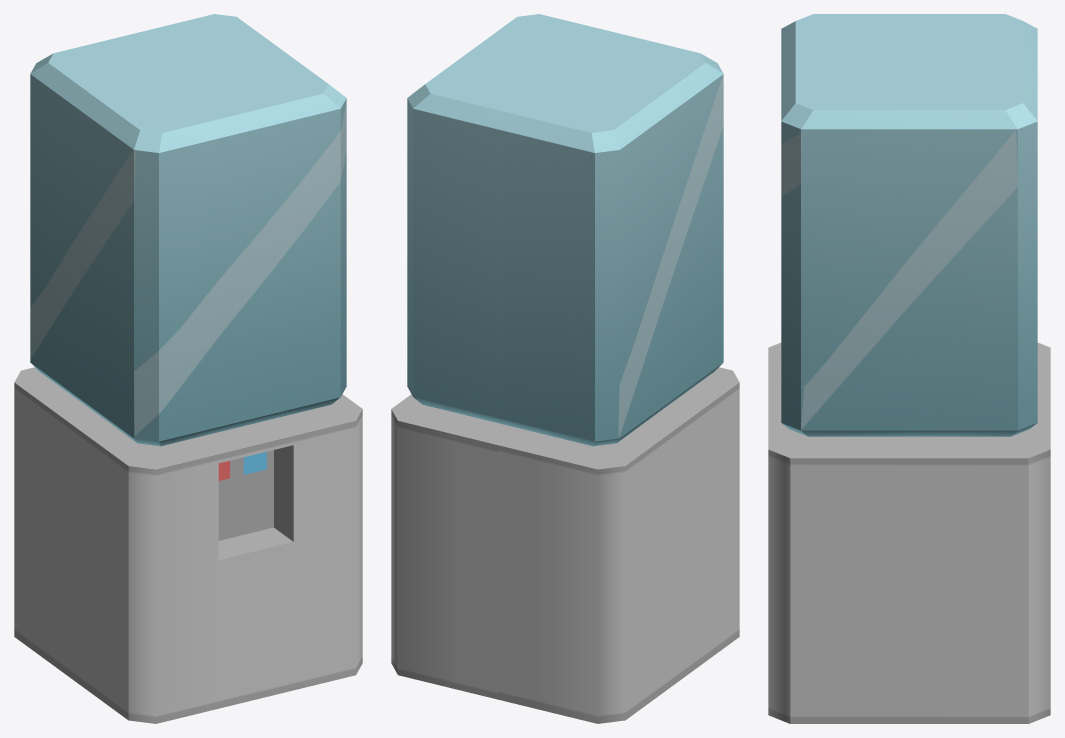
File: WaterCooler.fbx
3 views of the same model, side by side, from view 1: azimuth 30°, elevation 25°; view 2: azimuth 150°, elevation 25°; view 3: azimuth 270°, elevation 25° (orthographic). The views are drawn at different scales.
Parts seen in each view (by area): view 1: pCube15; view 2: pCube15; view 3: pCube15.
Part boxes in pixels (box(x1,y1,x2,y2)): pCube15: box(14, 14, 362, 723); pCube15: box(391, 14, 739, 723); pCube15: box(768, 14, 1050, 723).
Bounding box in the file's own units: 3.13 × 7.36 × 3.13.
